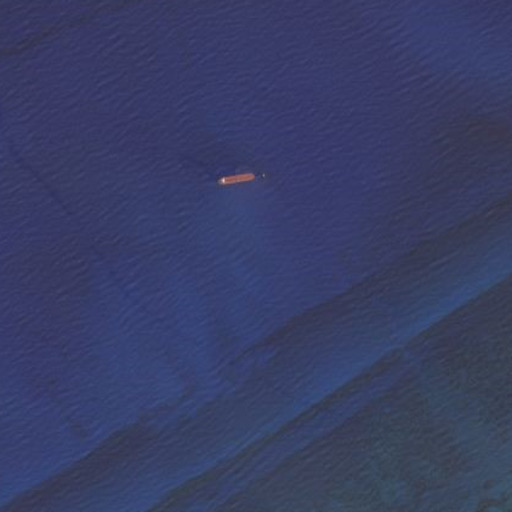ship: (215, 170, 259, 187)
